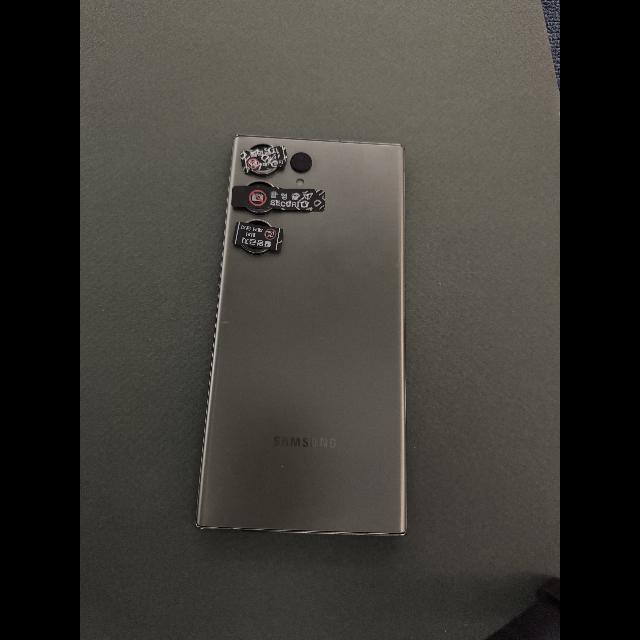lens: (291, 153, 312, 171), (244, 244, 269, 253), (247, 180, 272, 186), (253, 168, 277, 174)
phone: (196, 137, 406, 536)
sticker: (232, 186, 325, 211), (233, 221, 284, 252), (239, 145, 287, 173)
